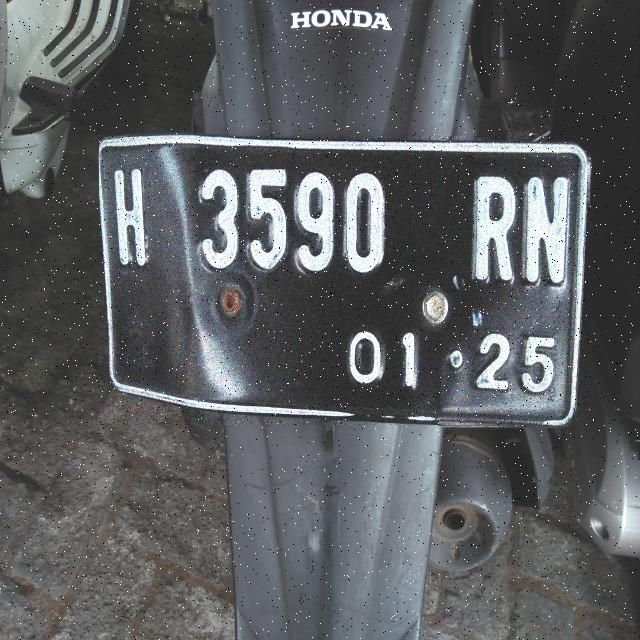plate: (99, 136, 587, 424)
